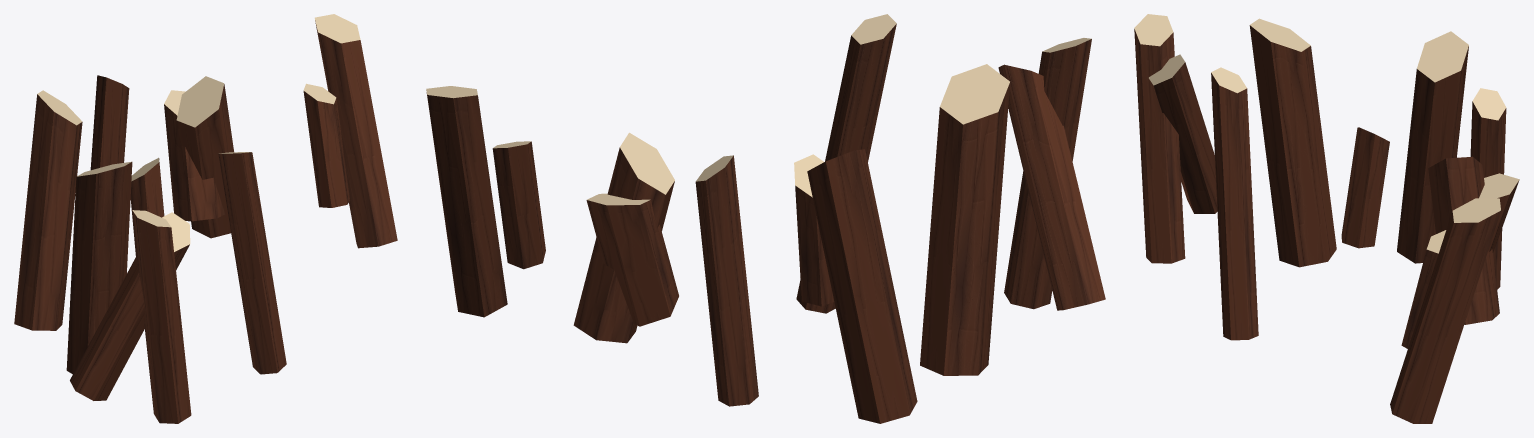
The model's file is shrub_cut.gltf.
3 renders of one model, left to right at view 1: azimuth 30°, elevation 25°; view 2: azimuth 150°, elevation 25°; view 3: azimuth 270°, elevation 25°, orthographic. The views are drawn at different scales.
Visible parts, largest first — view 1: shrub_cut; view 2: shrub_cut; view 3: shrub_cut.
Boxes of the visible parts, bbox=[...] form: shrub_cut: bbox=[14, 14, 397, 423]; shrub_cut: bbox=[426, 14, 1105, 423]; shrub_cut: bbox=[1134, 14, 1519, 423].
Bounding box in the file's own units: 0.7901 × 0.4217 × 0.6004.
2 materials, 1 textured.
